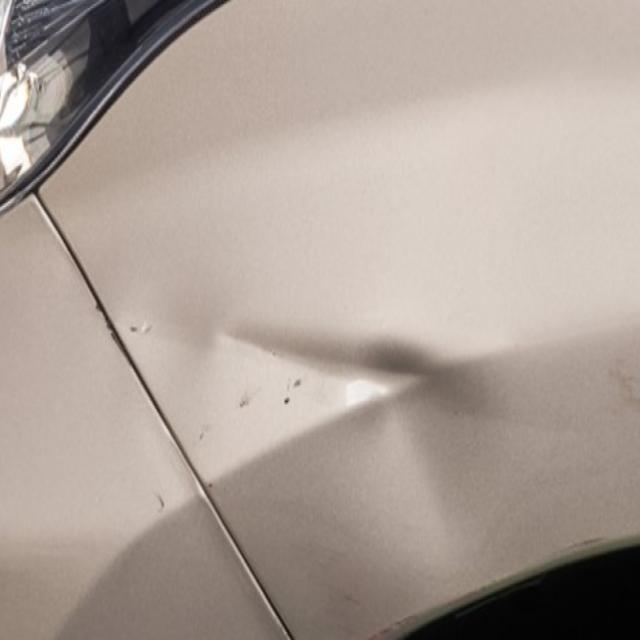dents: (196, 288, 574, 617)
